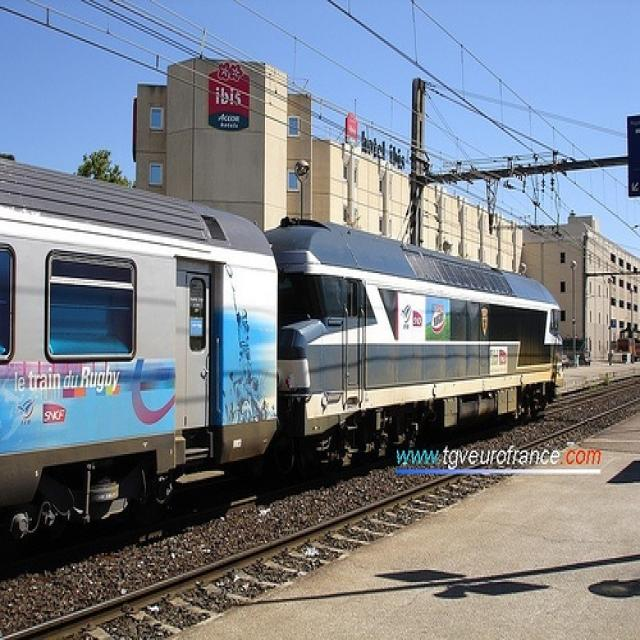train: (1, 151, 564, 542)
